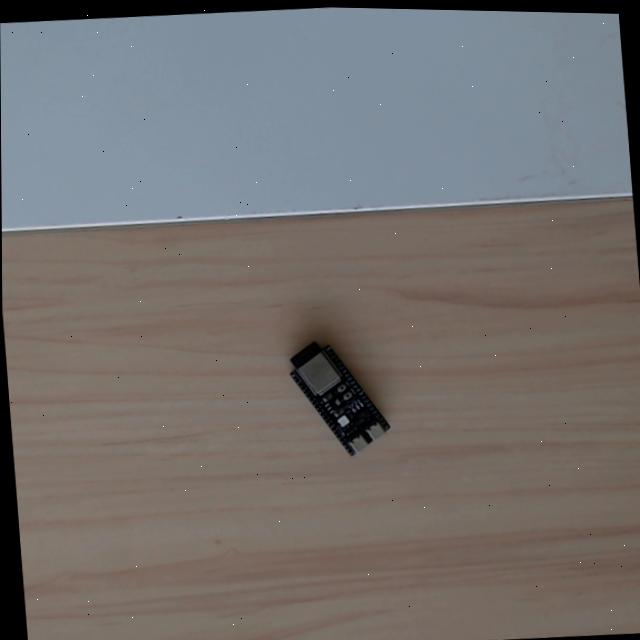ESP32S3-Devkit: (278, 332, 393, 460)
